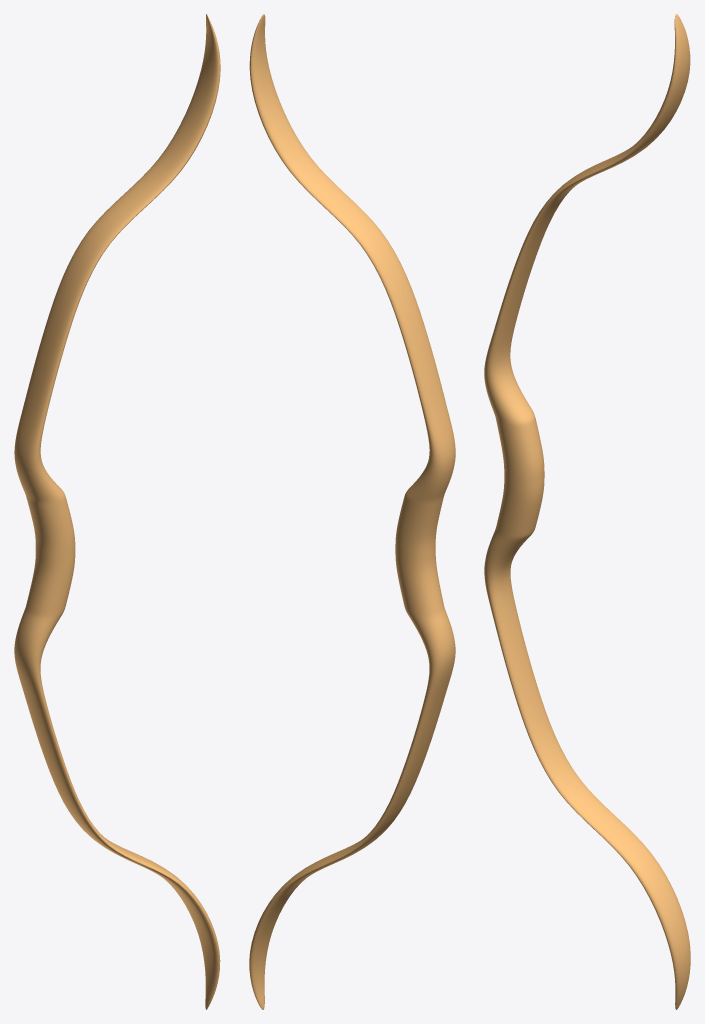
The model's file is Bow05.fbx.
3 views of the same model, side by side, from view 1: azimuth 30°, elevation 25°; view 2: azimuth 150°, elevation 25°; view 3: azimuth 330°, elevation 25° (orthographic).
Visible parts, largest first — view 1: Bow; view 2: Bow; view 3: Bow.
Boxes of the visible parts, x1,y1,x2,y2 form: Bow: (14, 14, 220, 1009); Bow: (249, 14, 455, 1009); Bow: (484, 14, 690, 1009).
Bounding box in the file's own units: 33.66 × 163 × 6.02.
